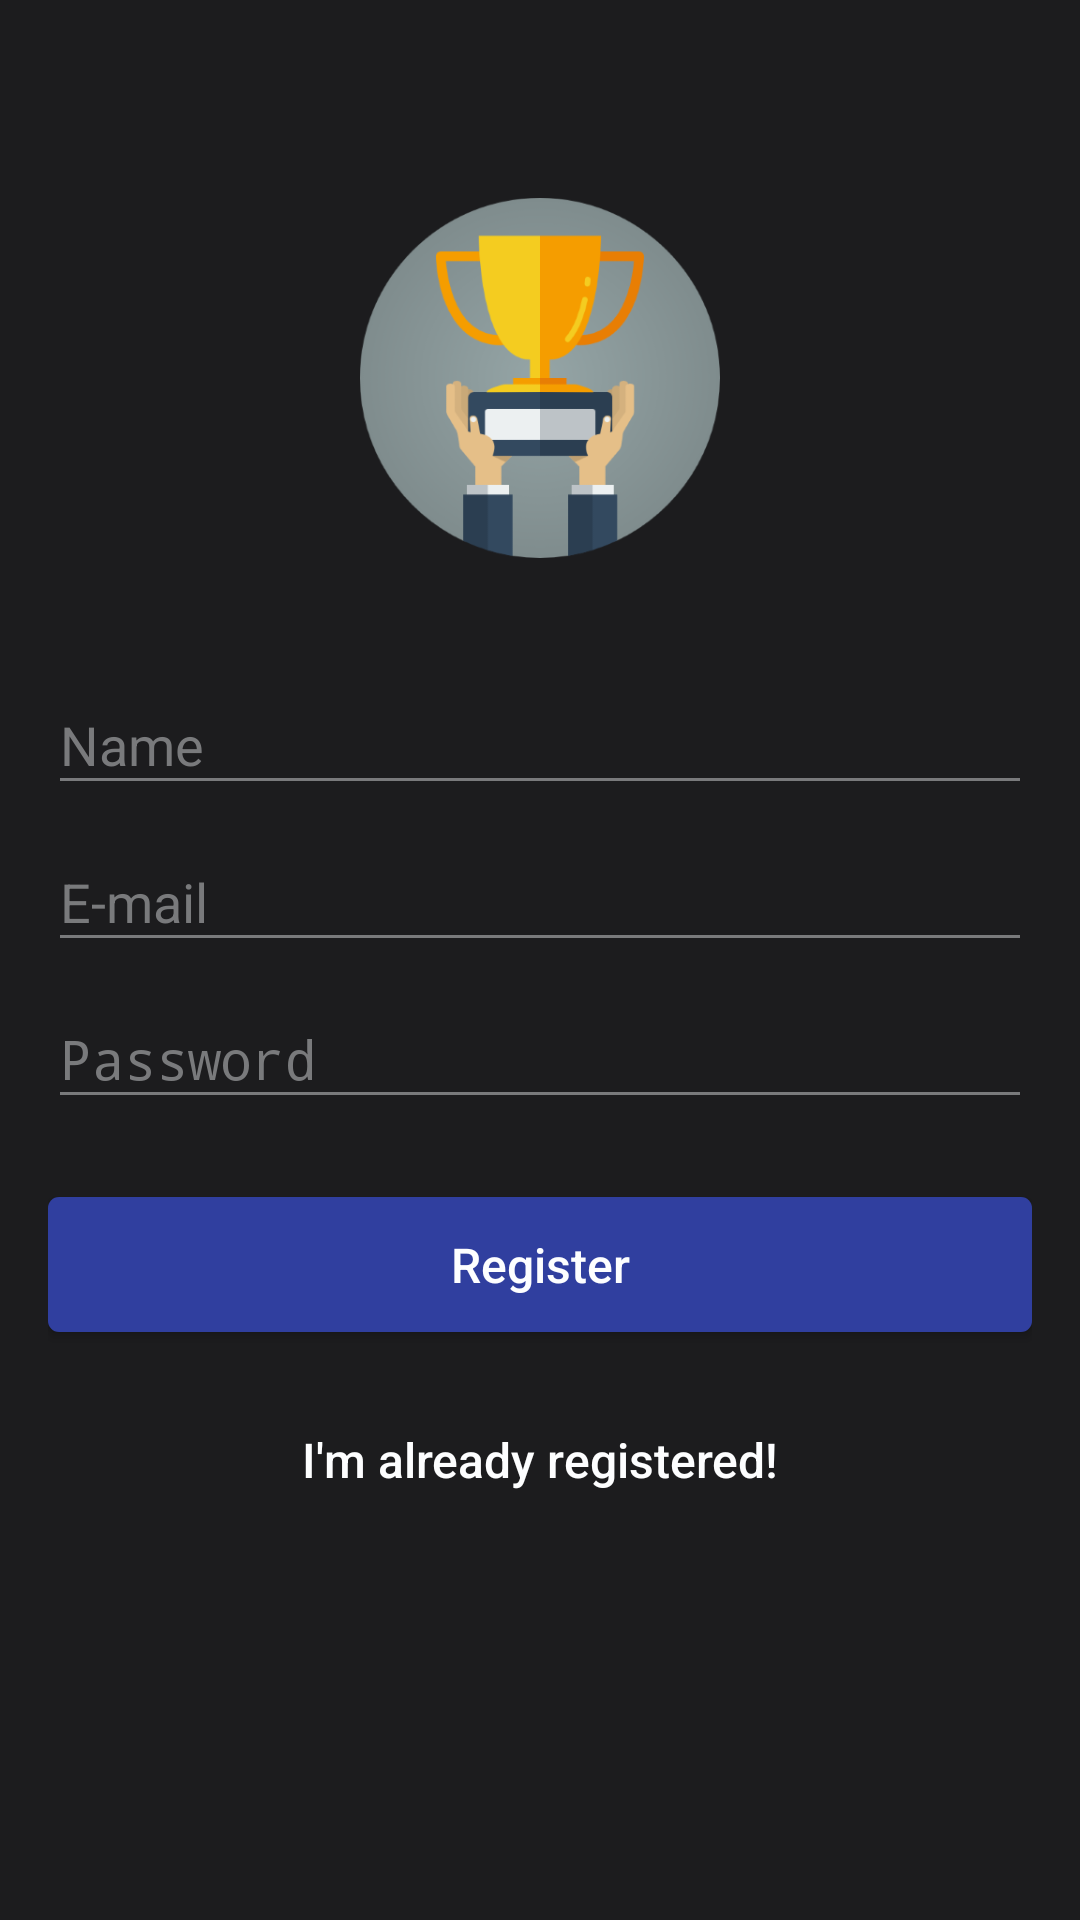

Named icons in this screenshot (1080px×1920px) and their centers, (x=x, y=y):
trophy: (x=540, y=378)
